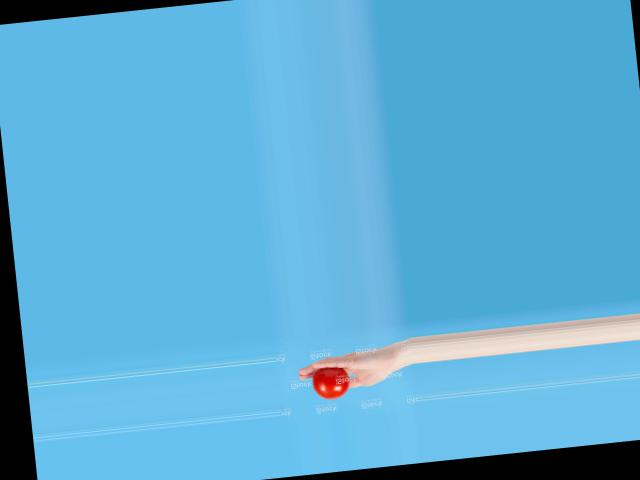tomato: (311, 365, 351, 400)
